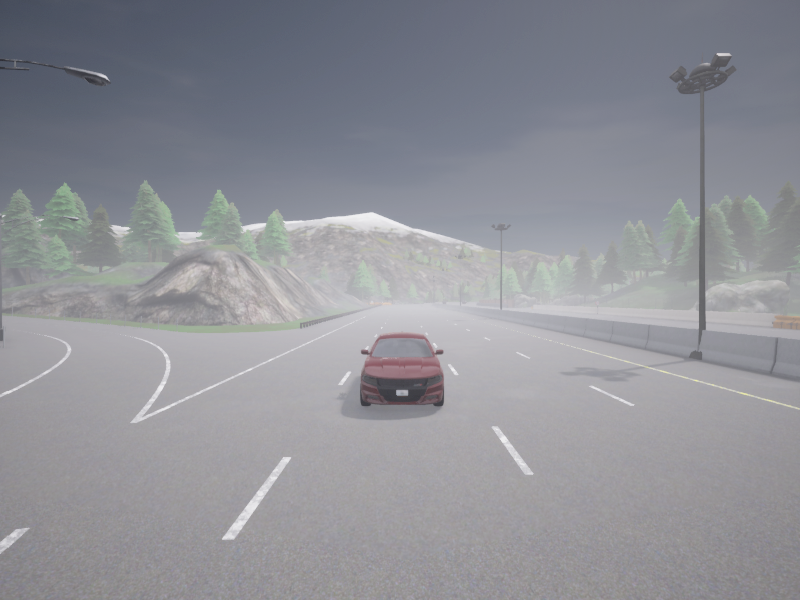vehicle: (360, 331, 443, 405), (462, 301, 466, 303), (442, 301, 445, 303)
